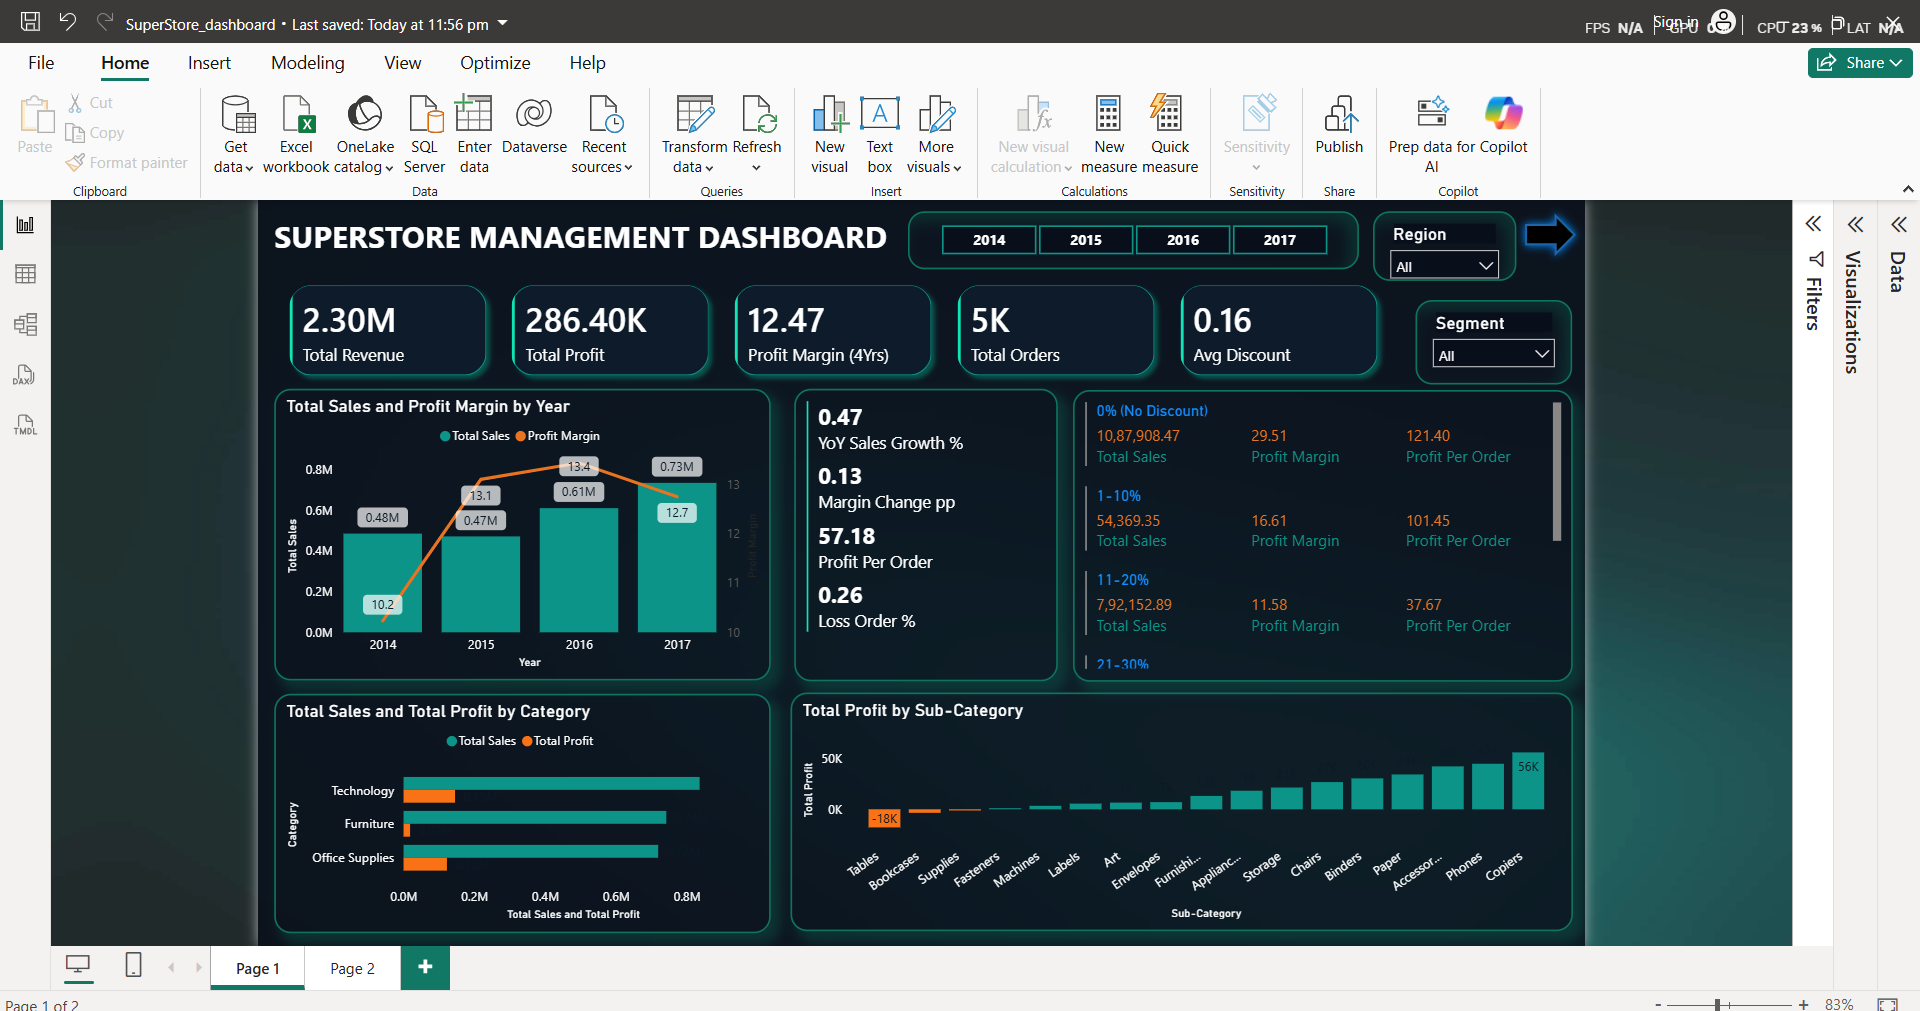

Layout of this report page (visuals, bound fields, positions):
{"tool":"powerbi","page":{"name":"Page 1","canvas":[1280,720],"ordinal":0},"visuals":[{"type":"slicer","fields":{"Values":["DateTable.Year"]},"box":[627.8,11.2,435.4,56.2],"z":0},{"type":"slicer","fields":{"Values":["Sample - Superstore.Region"]},"box":[1076.6,11.2,138.4,67.5],"z":1000},{"type":"slicer","fields":{"Values":["Sample - Superstore.Segment"]},"box":[1117.7,96.4,151.3,81.8],"z":2000},{"type":"cardVisual","fields":{"Data":["AllMeasures.Total Sales","AllMeasures.Total Profit","AllMeasures.profit margin","AllMeasures.Total Orders","AllMeasures.Avg Discount"]},"box":[0,51.8,1112.6,147.4],"z":3000},{"type":"lineStackedColumnComboChart","fields":{"Category":["DateTable.Year"],"Y":["AllMeasures.Total Sales"],"Y2":["AllMeasures.profit margin"]},"box":[15.9,181.8,479.5,281.9],"z":4000},{"type":"multiRowCard","fields":{"Values":["AllMeasures.YoY Sales Growth %","AllMeasures.Margin Change pp","AllMeasures.Profit Per Order","AllMeasures.Loss Order %"]},"box":[517.5,182.2,254.2,282.4],"z":5000},{"type":"columnChart","fields":{"Category":["Sample - Superstore.Sub-Category"],"Y":["AllMeasures.Total Profit"]},"box":[513.7,475.9,755.3,230.6],"z":6000},{"type":"multiRowCard","fields":{"Values":["Sample - Superstore.Discount Bucket","AllMeasures.Total Sales","AllMeasures.profit margin","AllMeasures.Profit Per Order"]},"box":[786.4,183.4,482.6,281.2],"z":7000},{"type":"clusteredBarChart","fields":{"Category":["Sample - Superstore.Category"],"Y":["AllMeasures.Total Sales","AllMeasures.Total Profit"]},"box":[16,476,479,231],"z":8000},{"type":"shape","box":[15.8,0,624.4,67.5],"z":9000},{"type":"shape","box":[1215,4.5,65.2,57.4],"z":9001}]}

Visuals, with their boxes on the page's 1280x720 design canvas (x1, y1, x2, y2). These are canvas units, not pixel positions in the 1920x1011 screenshot, which may show the page scaled, cropped or inside an application window:
slicer - DateTable.Year: <bbox>628, 11, 1063, 67</bbox>
slicer - Sample - Superstore.Region: <bbox>1077, 11, 1215, 79</bbox>
slicer - Sample - Superstore.Segment: <bbox>1118, 96, 1269, 178</bbox>
cardVisual - AllMeasures.Total Sales x AllMeasures.Total Profit: <bbox>0, 52, 1113, 199</bbox>
lineStackedColumnComboChart - DateTable.Year x AllMeasures.Total Sales: <bbox>16, 182, 495, 464</bbox>
multiRowCard - AllMeasures.YoY Sales Growth % x AllMeasures.Margin Change pp: <bbox>518, 182, 772, 465</bbox>
columnChart - Sample - Superstore.Sub-Category x AllMeasures.Total Profit: <bbox>514, 476, 1269, 706</bbox>
multiRowCard - Sample - Superstore.Discount Bucket x AllMeasures.Total Sales: <bbox>786, 183, 1269, 465</bbox>
clusteredBarChart - Sample - Superstore.Category x AllMeasures.Total Sales: <bbox>16, 476, 495, 707</bbox>
shape: <bbox>16, 0, 640, 68</bbox>
shape: <bbox>1215, 4, 1280, 62</bbox>
